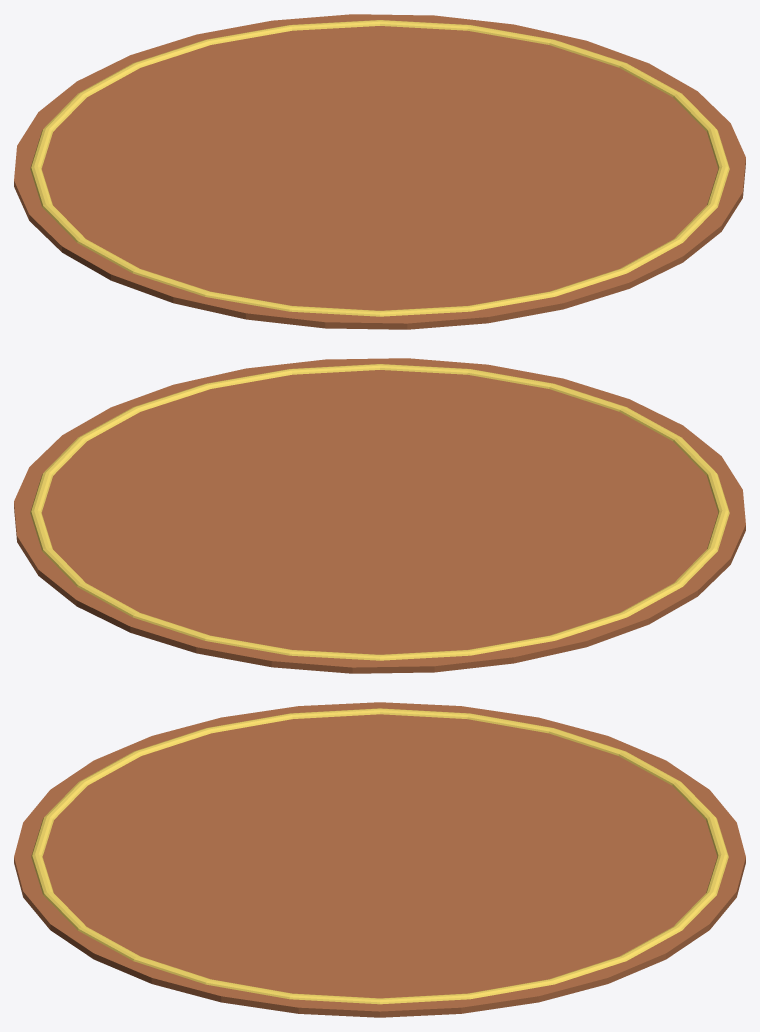
Rendered from hut_rug.fbx.
3 renders of one model, top to bottom at view 1: azimuth 30°, elevation 25°; view 2: azimuth 150°, elevation 25°; view 3: azimuth 270°, elevation 25°, orthographic.
Parts seen in each view (by area): view 1: hut_rug; view 2: hut_rug; view 3: hut_rug.
Part boxes in pixels (<box>): hut_rug: <box>14,14,745,329</box>; hut_rug: <box>14,358,745,673</box>; hut_rug: <box>14,702,745,1017</box>.
Bounding box in the file's own units: 3.2 × 0.0419 × 3.2.
